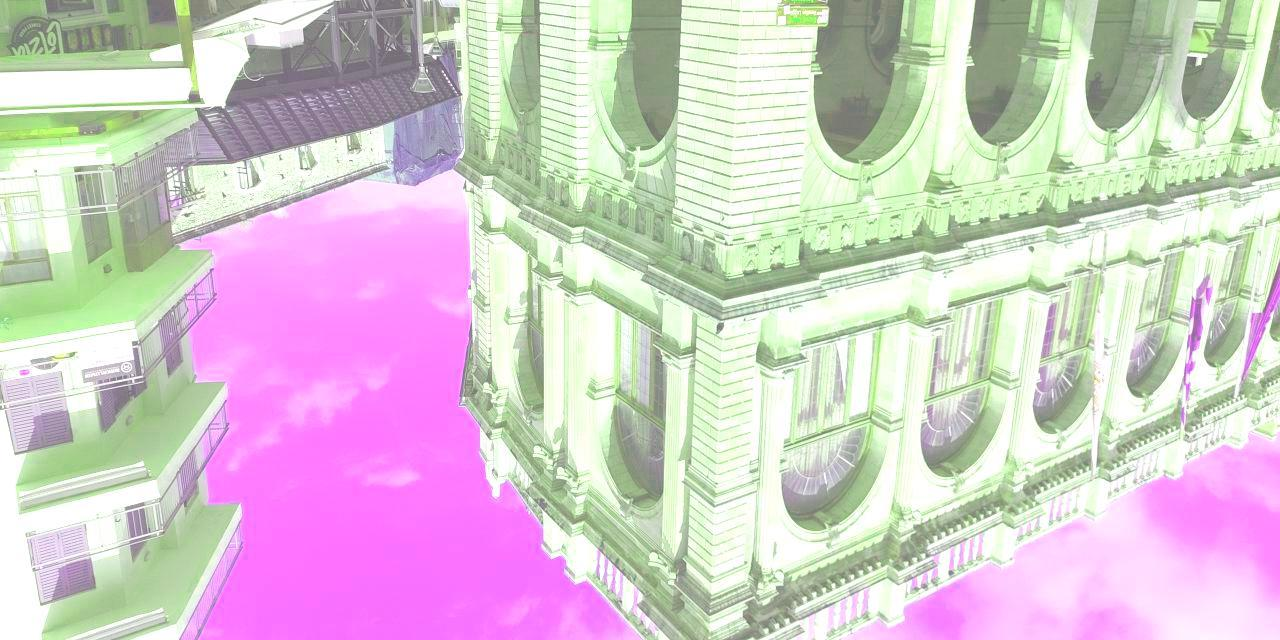Loggia: (457, 1, 1280, 640)
